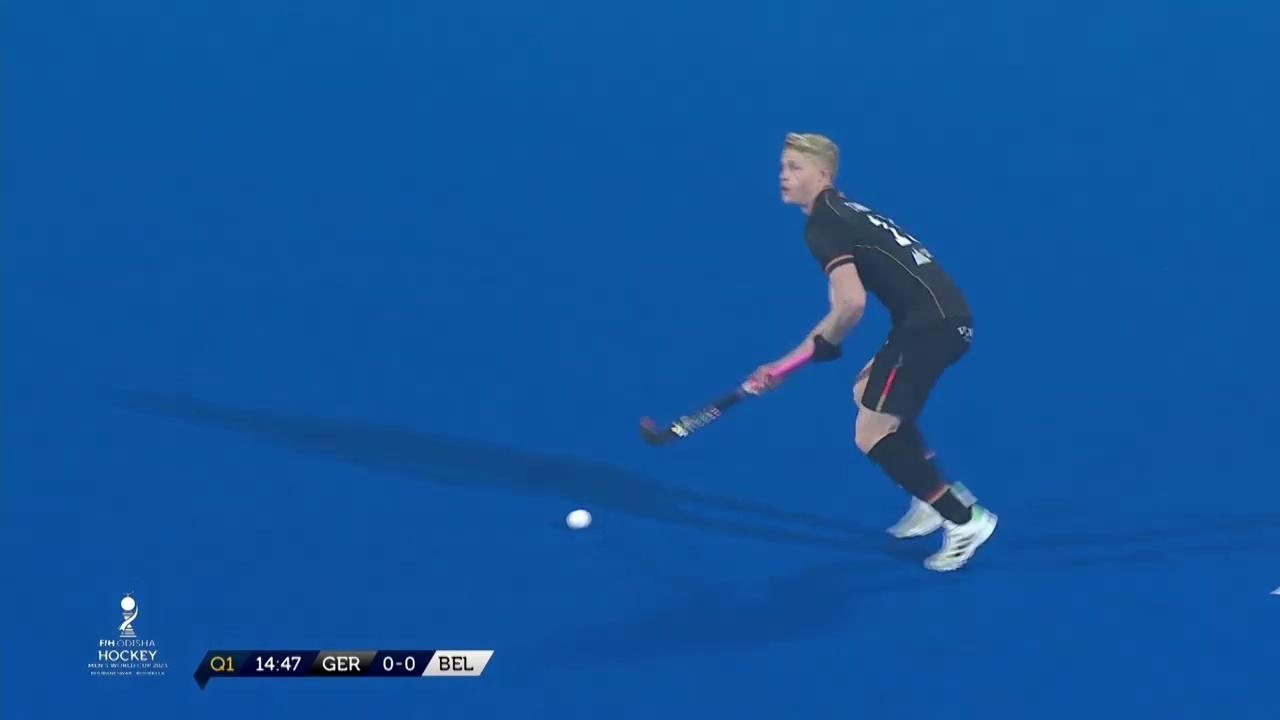ball: (553, 497, 612, 540)
